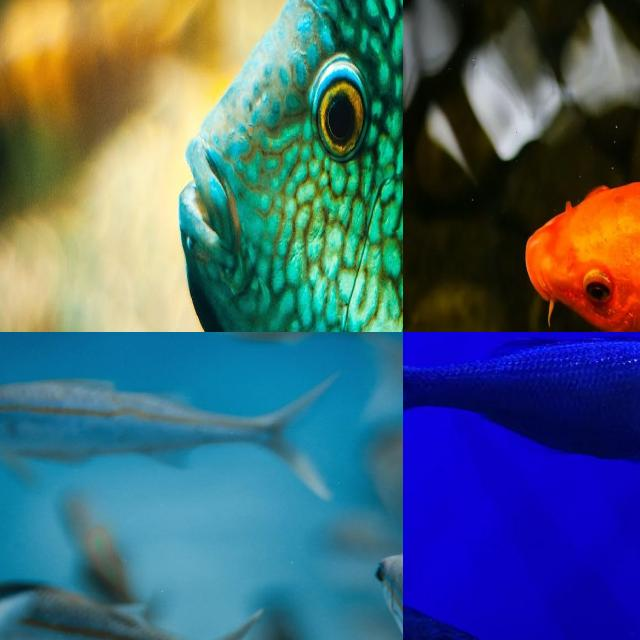fish: (0, 0, 403, 332), (28, 356, 403, 640), (403, 332, 640, 467)
